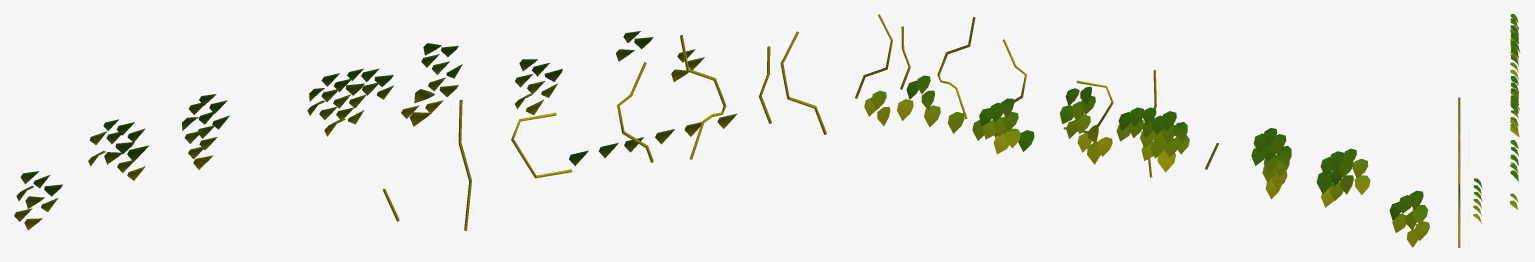
Rendered from bindweed.fbx.
The picture shows the model from 3 angles, left to right: view 1: azimuth 30°, elevation 25°; view 2: azimuth 150°, elevation 25°; view 3: azimuth 270°, elevation 25°; orthographic projection. The views are drawn at different scales.
Visible parts, largest first — view 1: bindweed_12, bindweed_11, bindweed_14, bindweed_13, bindweed_10, bindweed_15, bindweed_03, bindweed_06, bindweed_05, bindweed_01; view 2: bindweed_12, bindweed_14, bindweed_11, bindweed_13, bindweed_10, bindweed_15, bindweed_09, bindweed_08, bindweed_03; view 3: bindweed_11, bindweed_13, bindweed_14, bindweed_12, bindweed_01, bindweed_10, bindweed_03, bindweed_15, bindweed_06, bindweed_09, bindweed_08, bindweed_05.
Boxes of the visible parts, bbox=[...] form: bindweed_12: bbox=[307, 68, 393, 136]; bindweed_11: bbox=[401, 43, 462, 126]; bindweed_14: bbox=[88, 119, 148, 180]; bindweed_13: bbox=[182, 94, 229, 169]; bindweed_10: bbox=[515, 59, 562, 114]; bindweed_15: bbox=[14, 171, 62, 230]; bindweed_03: bbox=[680, 35, 726, 159]; bindweed_06: bbox=[458, 99, 471, 230]; bindweed_05: bbox=[511, 112, 572, 178]; bindweed_01: bbox=[780, 31, 826, 134]; bindweed_12: bbox=[1116, 107, 1189, 172]; bindweed_14: bbox=[1316, 148, 1370, 207]; bindweed_11: bbox=[1059, 86, 1112, 164]; bindweed_13: bbox=[1251, 128, 1291, 199]; bindweed_10: bbox=[979, 98, 1020, 154]; bindweed_15: bbox=[1389, 190, 1429, 247]; bindweed_09: bbox=[906, 75, 934, 109]; bindweed_08: bbox=[864, 90, 890, 125]; bindweed_03: bbox=[937, 17, 975, 118]; bindweed_11: bbox=[1510, 97, 1519, 137]; bindweed_13: bbox=[1510, 40, 1518, 79]; bindweed_14: bbox=[1510, 18, 1520, 60]; bindweed_12: bbox=[1510, 76, 1519, 110]; bindweed_01: bbox=[1458, 186, 1460, 247]; bindweed_10: bbox=[1510, 140, 1518, 173]; bindweed_03: bbox=[1458, 146, 1460, 183]; bindweed_15: bbox=[1510, 14, 1518, 44]; bindweed_06: bbox=[1458, 97, 1460, 128]; bindweed_09: bbox=[1510, 164, 1518, 181]; bindweed_08: bbox=[1510, 193, 1517, 209]; bindweed_05: bbox=[1458, 128, 1460, 145].
Bounding box in the file's own units: 14.93 × 2.77 × 2.12.
